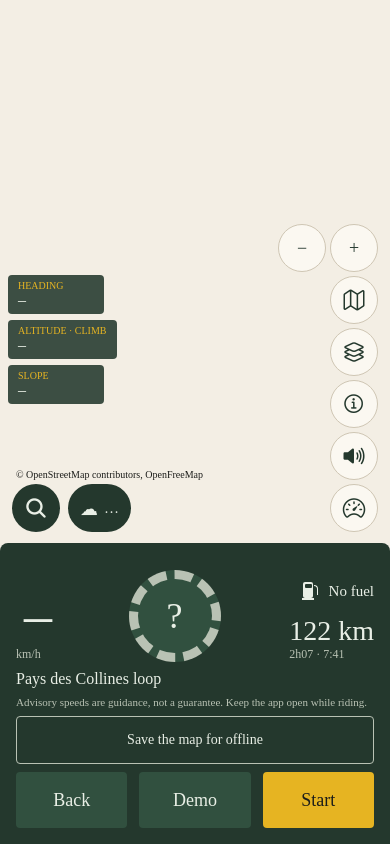
Scenario: choosing a place shows it on the map, centres the map on it and keeps a chip with its distance, that clears
This screenshot has width=390, height=844.
Step 1. Click the button with test id "places-chip" → (36, 508), box 12,484 -> 60,532
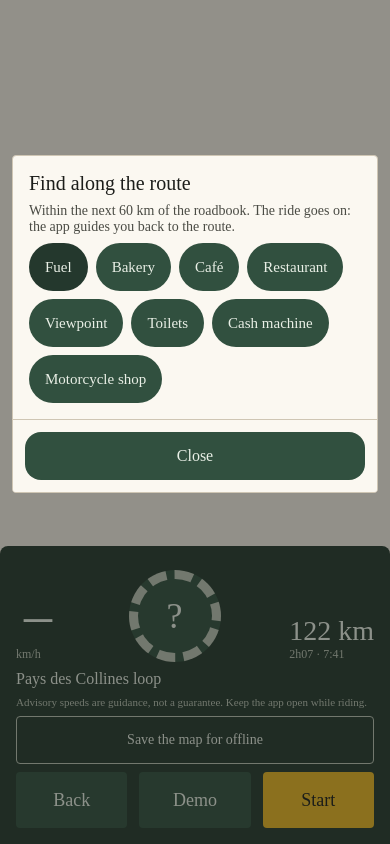
Step 2. Click the button with aria-label "Look for: Bakery" → (133, 267), box 96,243 -> 171,291
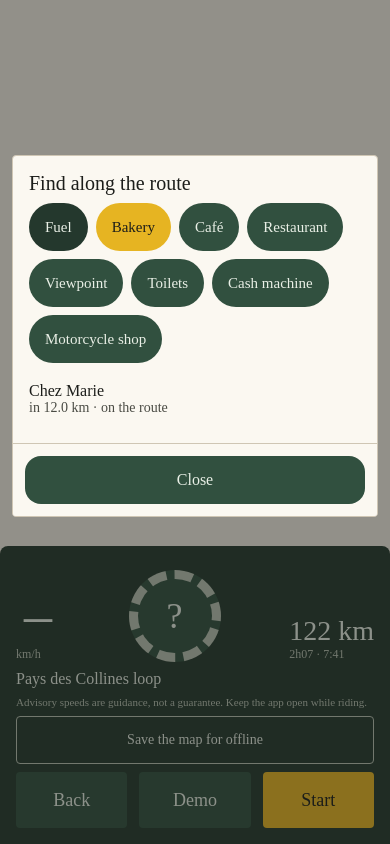
Step 3. Click the button with aria-label "Chez Marie, in 12.0 km" → (67, 390), box 29,371 -> 361,427
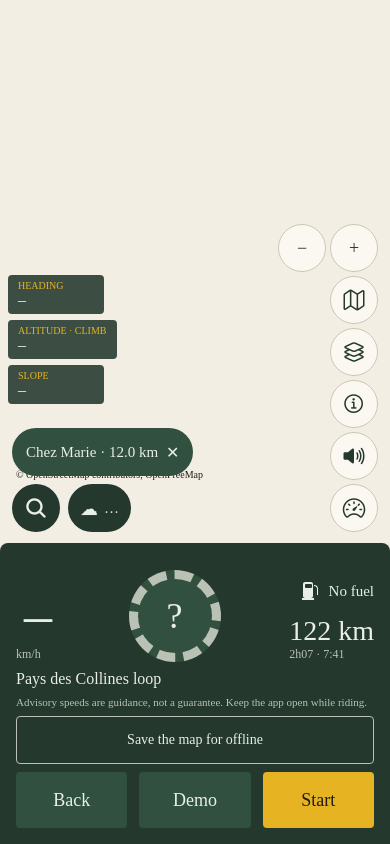
expect the element with test id "sheet" is gone: met
expect the text "Chez Marie · 12.0 km" is shown: met, box 26,444 -> 158,460
Step 4. Click the button with test id "selected-place" → (103, 452), box 12,428 -> 194,476
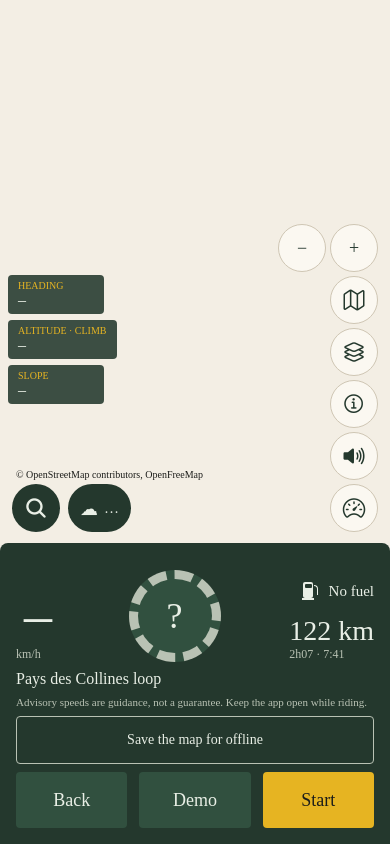
expect the button with test id "selected-place" is gone: met
